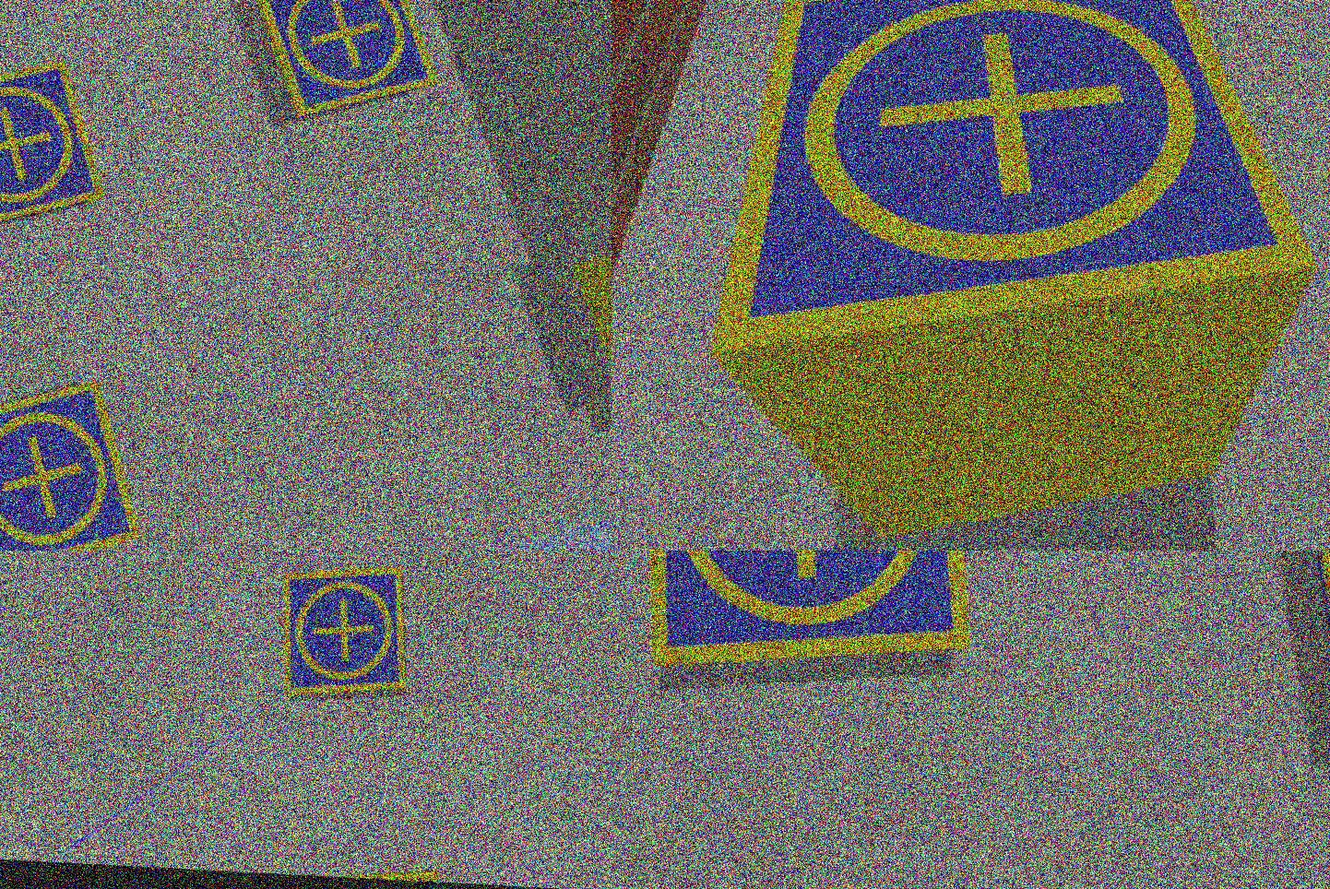small_base: (704, 1, 1330, 389), (629, 551, 992, 688), (1, 369, 149, 551), (247, 1, 448, 128), (1, 53, 113, 242), (276, 561, 415, 703)
